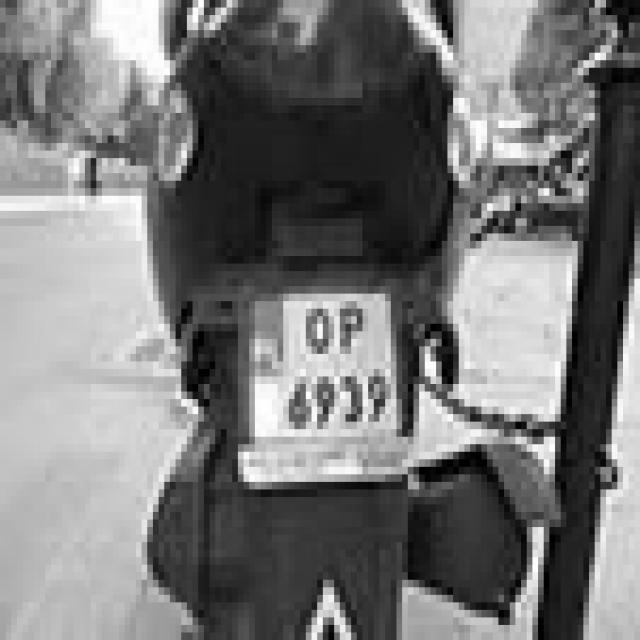License_Plate: (236, 294, 402, 442)
